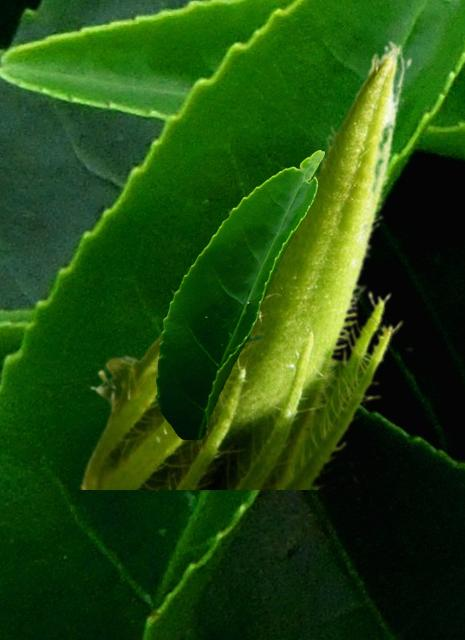okra: (75, 39, 412, 488)
